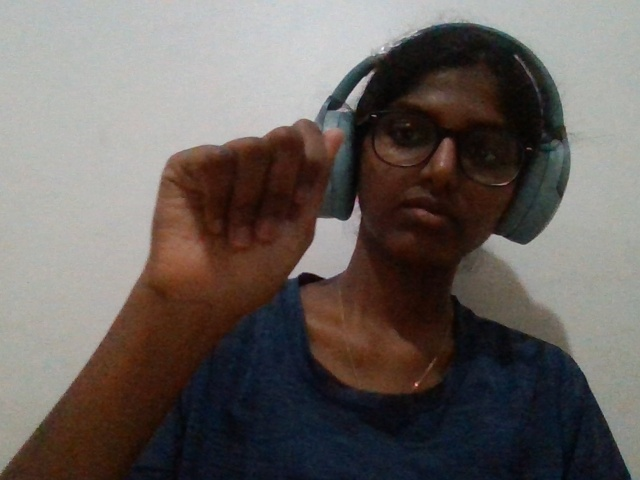A: (87, 103, 348, 372)
